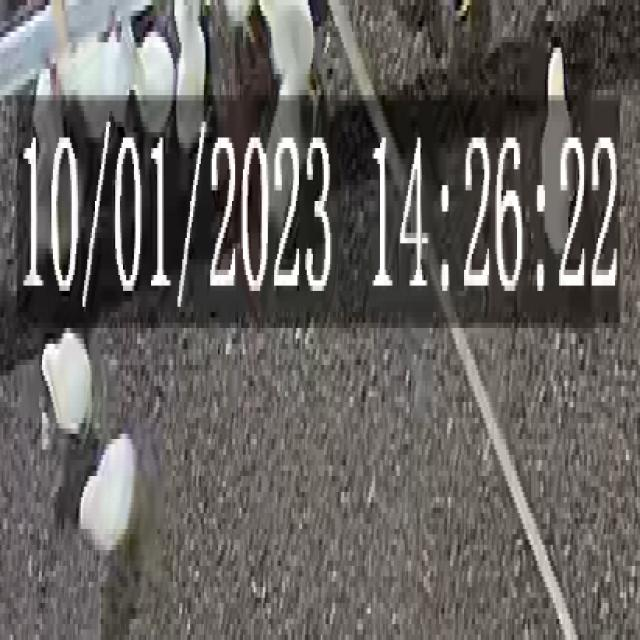broiler: (79, 434, 135, 550), (542, 48, 570, 249), (42, 328, 90, 428), (260, 0, 313, 90), (174, 0, 204, 148)
